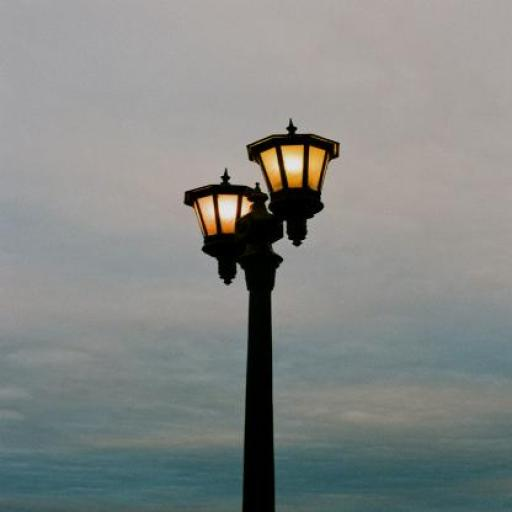street light: (183, 119, 341, 507)
